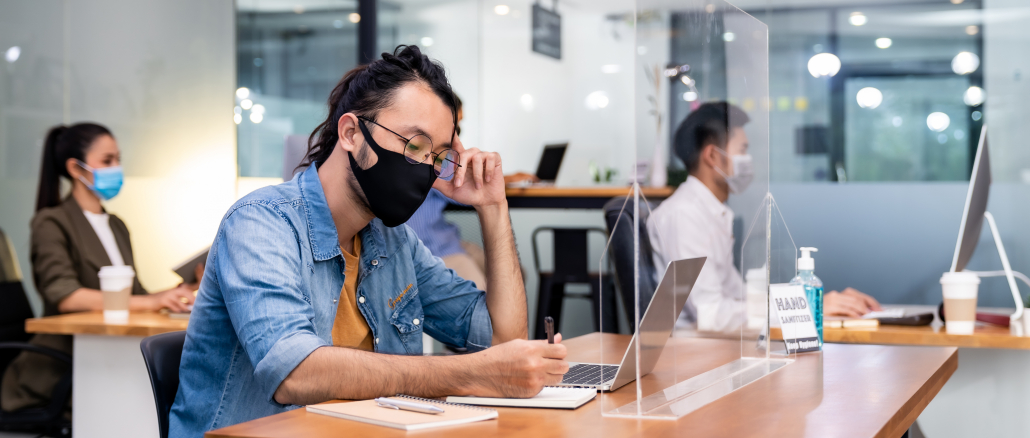with_mask: (346, 109, 458, 231), (63, 146, 126, 204), (704, 134, 757, 193)
